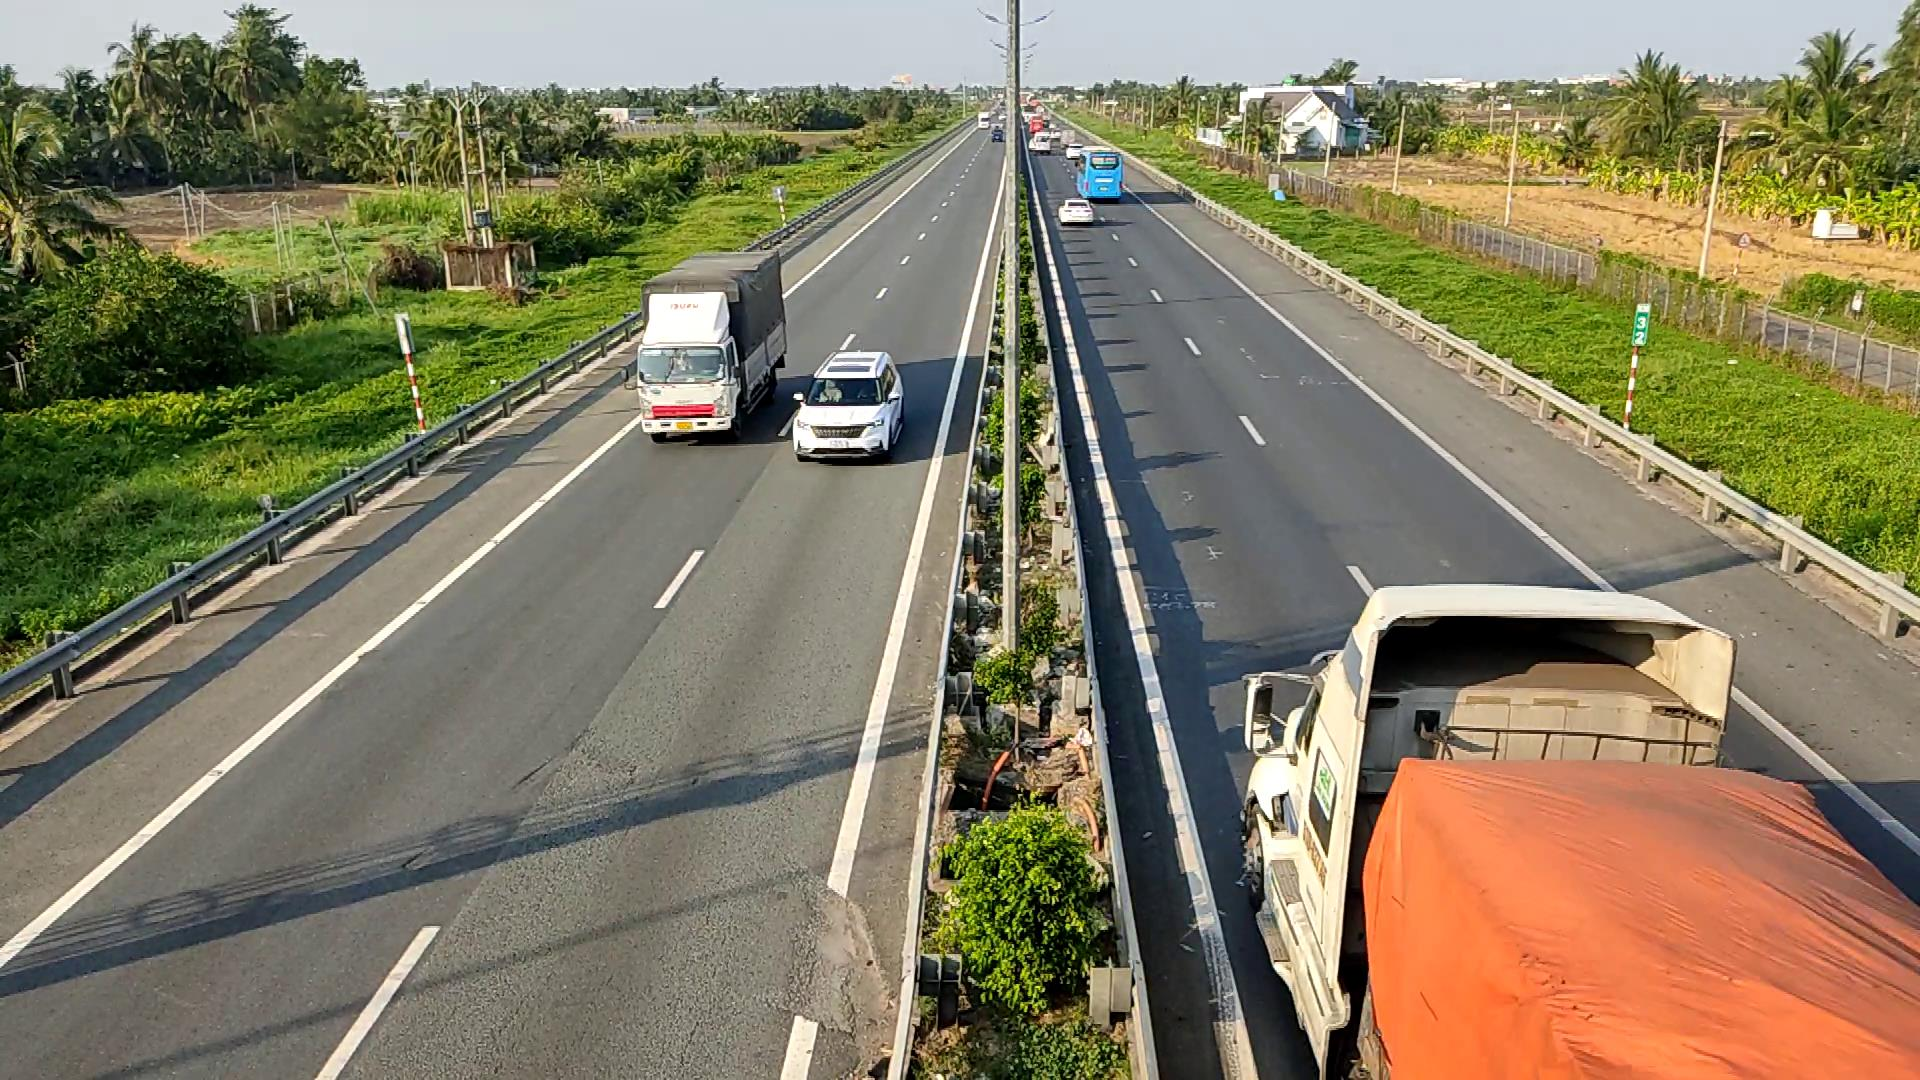car: (789, 343, 906, 462)
truck: (1233, 582, 1917, 1069), (634, 248, 789, 443)
